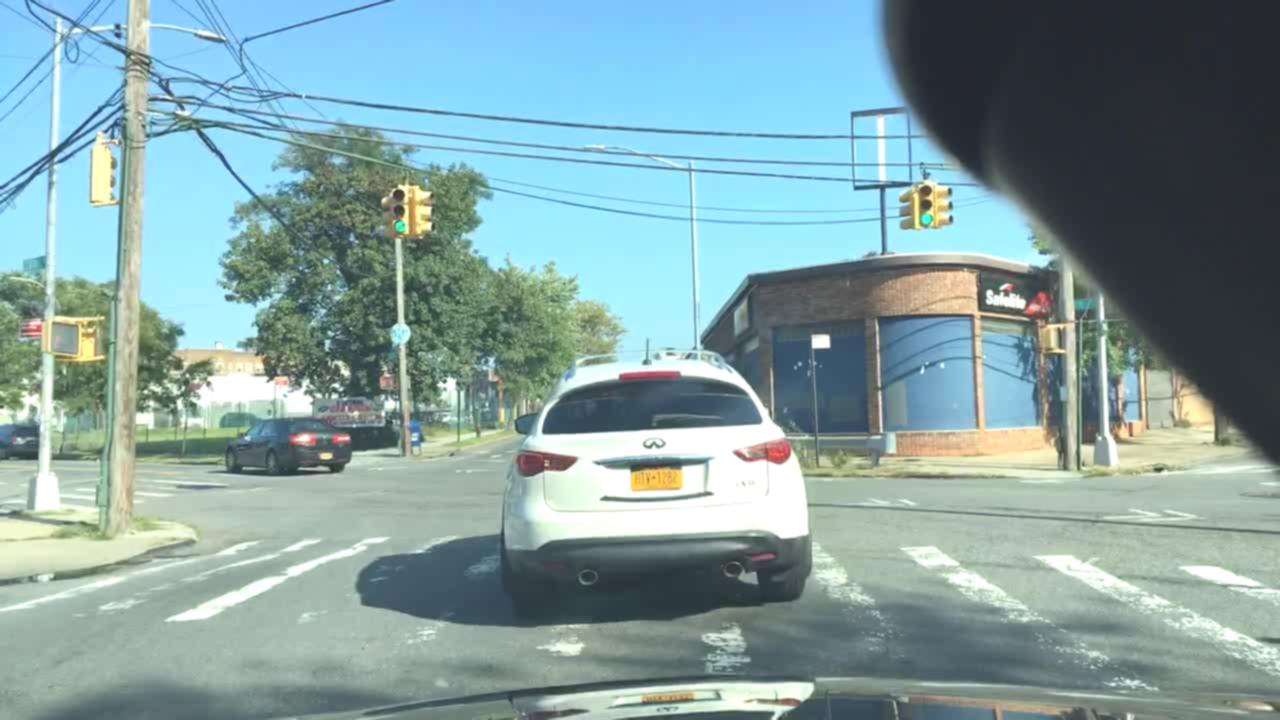Infiniti: (634, 430, 675, 451)
